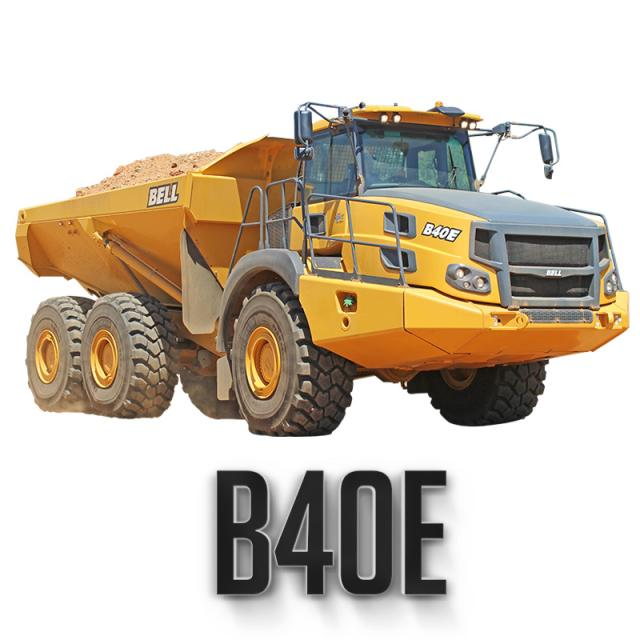dump_truck: (19, 86, 638, 508)
